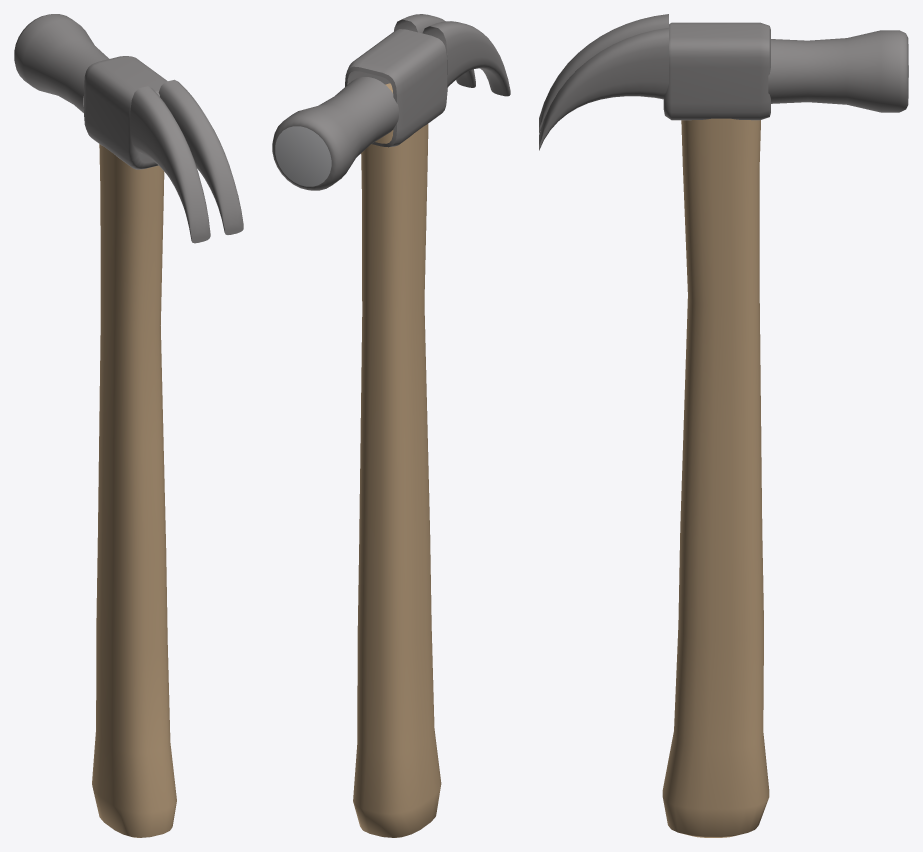
File: hammer.glb
The picture shows the model from 3 angles, left to right: view 1: azimuth 30°, elevation 25°; view 2: azimuth 150°, elevation 25°; view 3: azimuth 270°, elevation 25°; orthographic projection. The views are drawn at different scales.
Visible parts, largest first — view 1: Hammer; view 2: Hammer; view 3: Hammer.
Part boxes in pixels (<box>): Hammer: <box>14,14,243,837</box>; Hammer: <box>272,14,510,837</box>; Hammer: <box>539,14,908,837</box>.
Size of the model in its own units: 0.0314 by 0.3393 by 0.1411.
